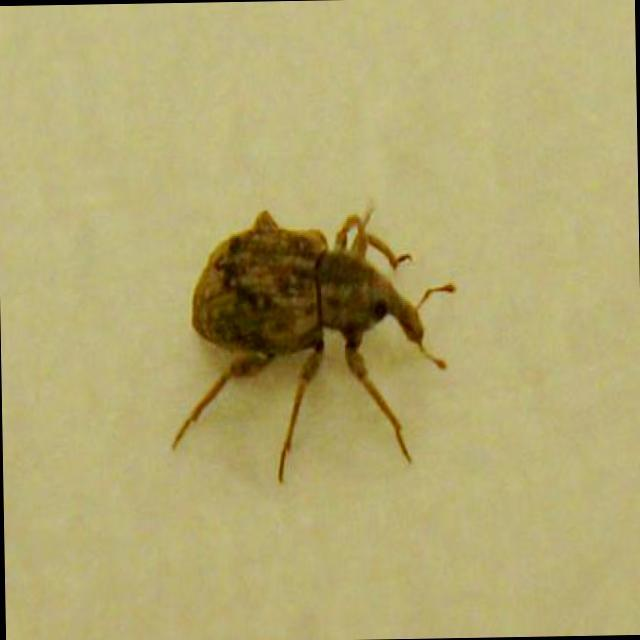ricebug: (173, 211, 445, 481)
